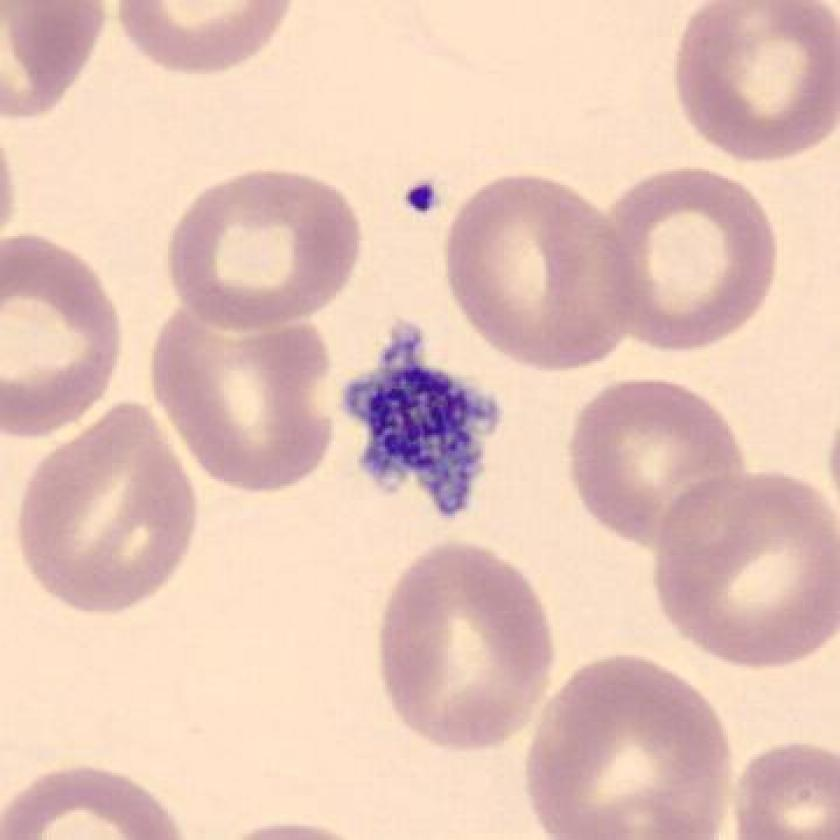platelets: (339, 320, 505, 531)
